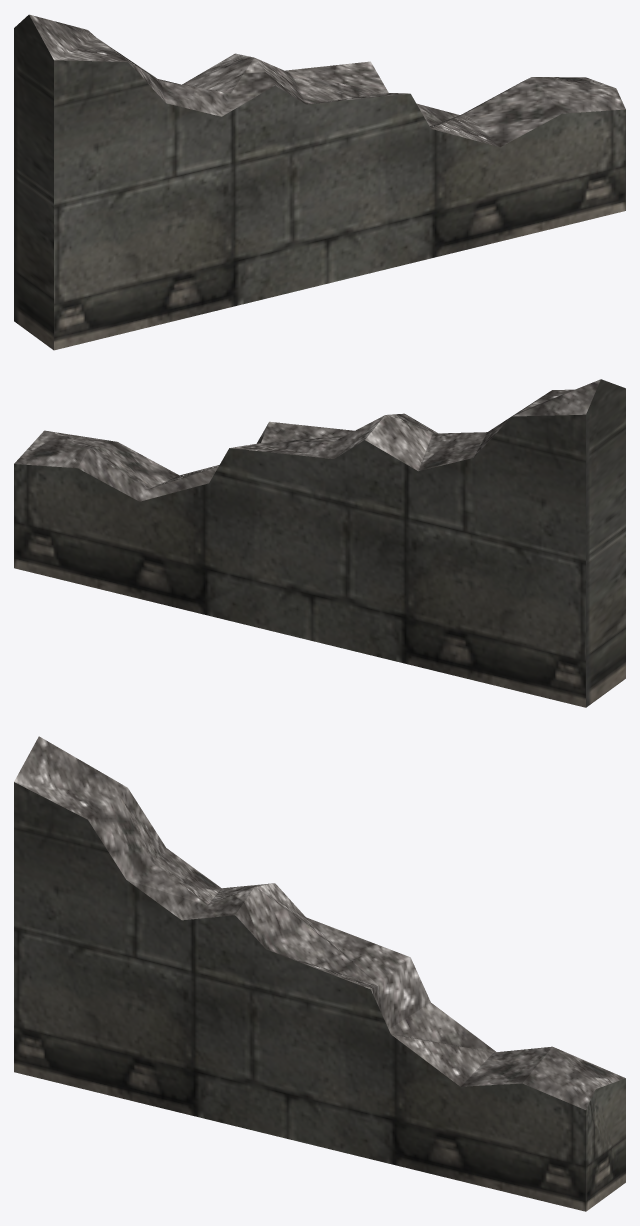
3 renders of one model, top to bottom at view 1: azimuth 30°, elevation 25°; view 2: azimuth 150°, elevation 25°; view 3: azimuth 330°, elevation 25°, orthographic.
Visible parts, largest first — view 1: object94; view 2: object94; view 3: object94.
Part boxes in pixels (<box>): object94: <box>14,14,625,350</box>; object94: <box>14,379,625,707</box>; object94: <box>14,736,625,1211</box>.
Size of the model in its own units: 402 by 213 by 48.59.
